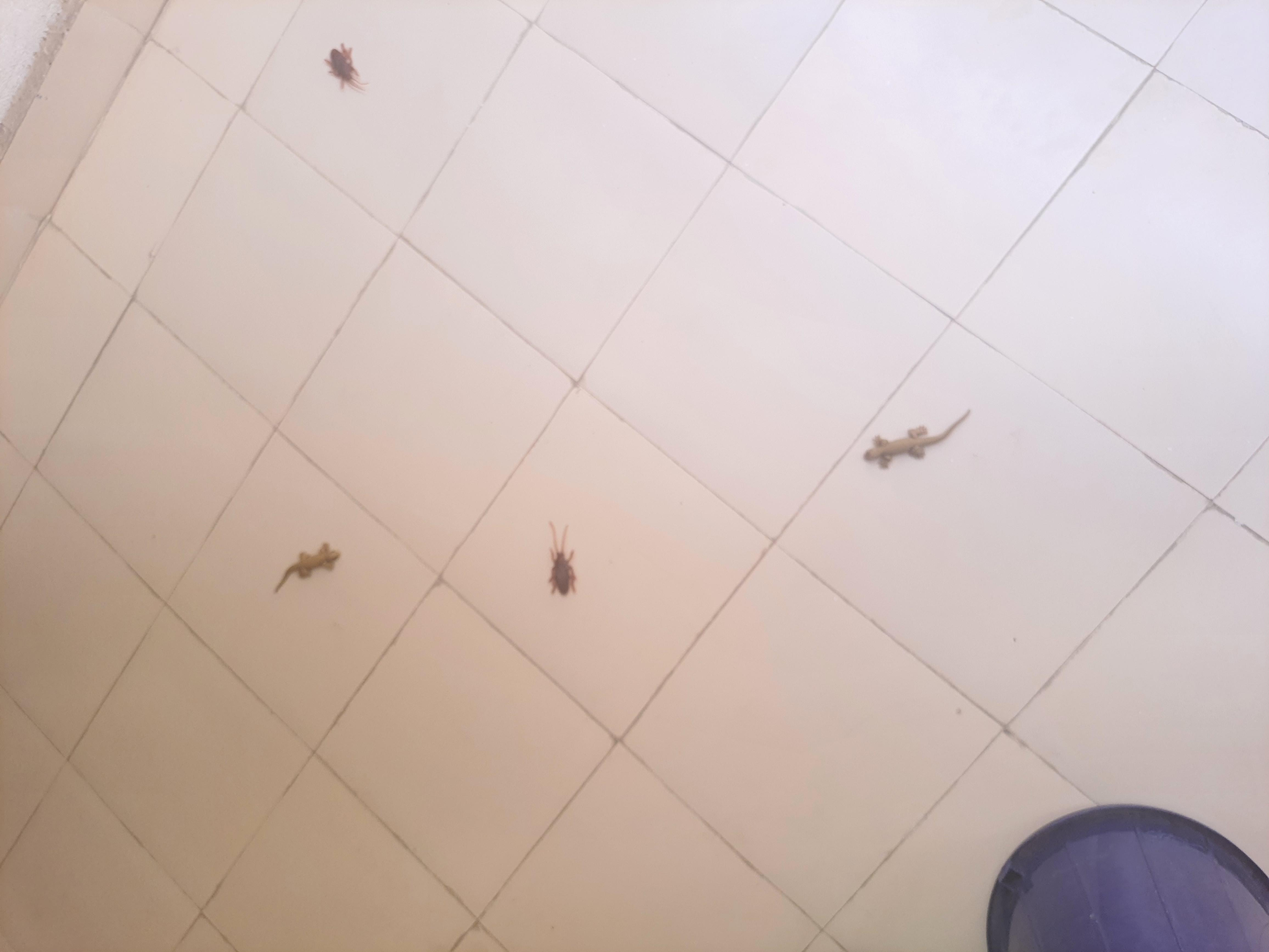cockroach: (462, 396, 564, 441), (1125, 229, 1213, 276)
lizard: (631, 627, 718, 728), (466, 188, 550, 261)
